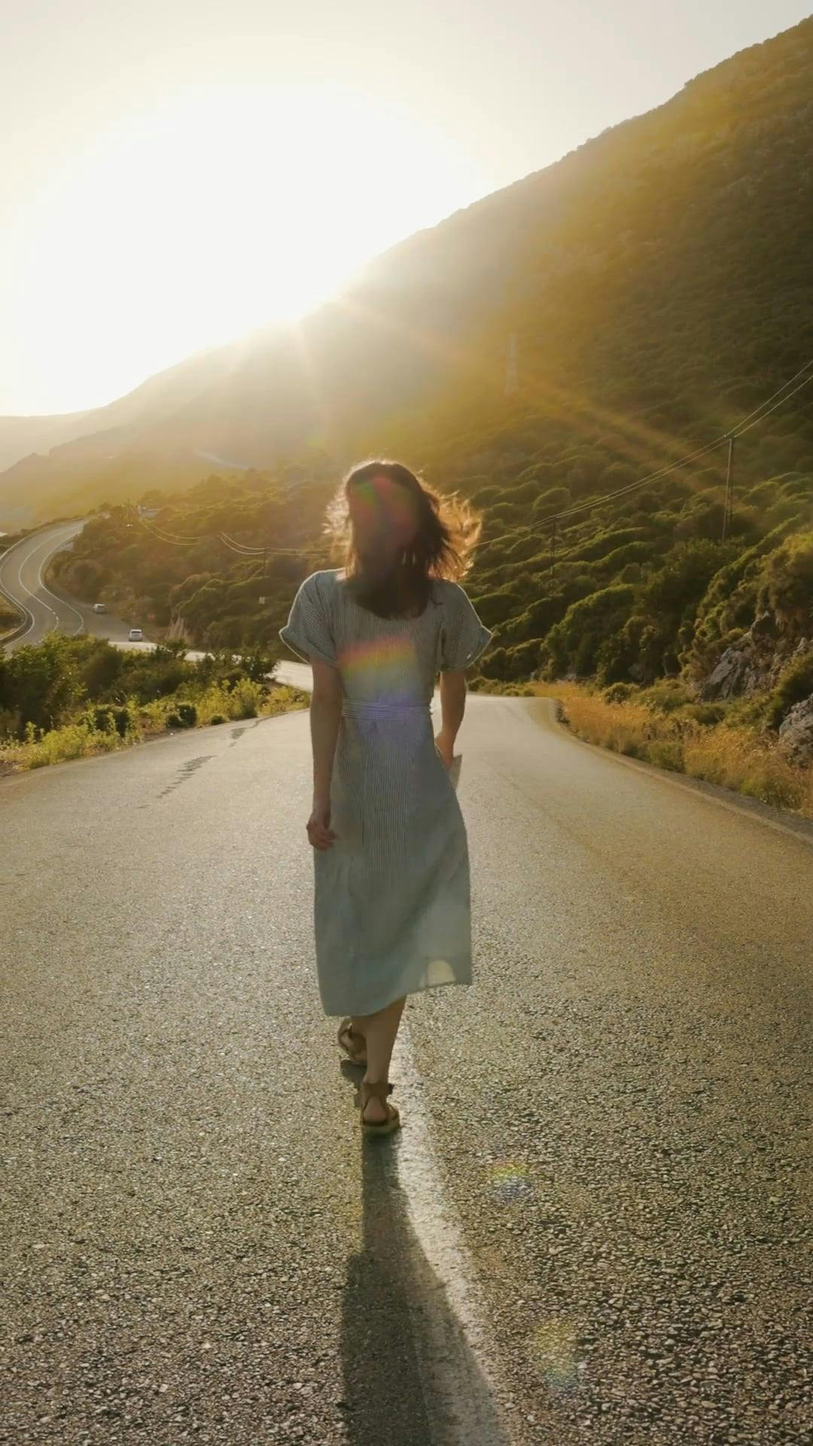Person: (278, 449, 487, 1139)
